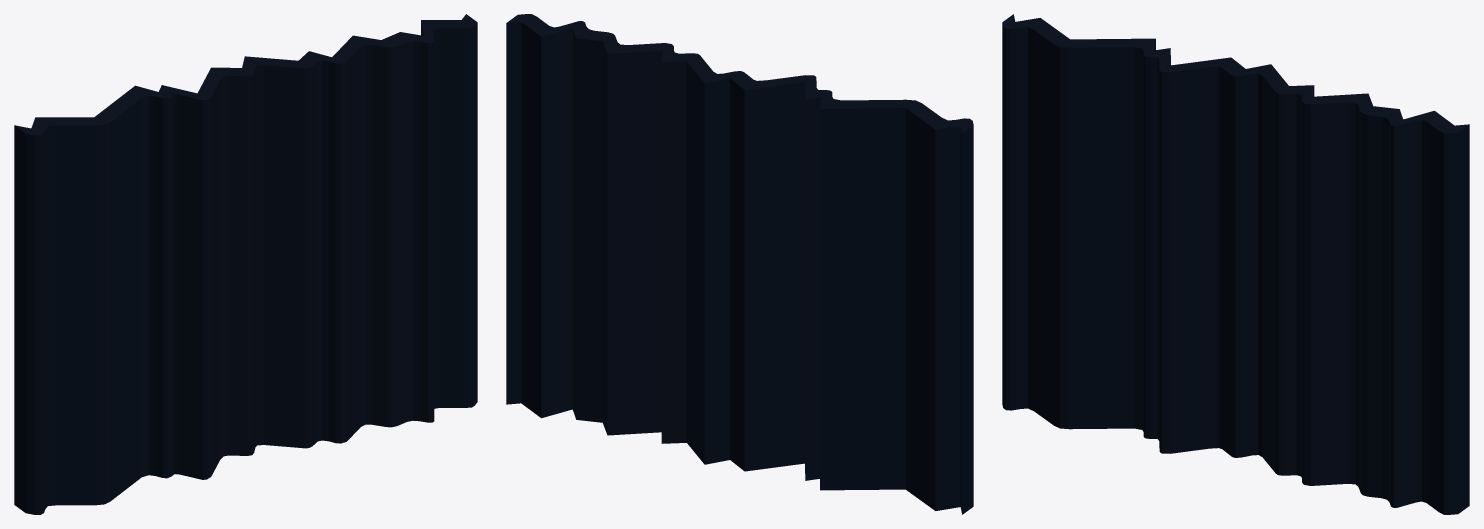
The model's file is curtains.glb.
The picture shows the model from 3 angles, left to right: view 1: azimuth 30°, elevation 25°; view 2: azimuth 150°, elevation 25°; view 3: azimuth 330°, elevation 25°; orthographic projection.
Visible parts, largest first — view 1: Cube; view 2: Cube; view 3: Cube.
Boxes of the visible parts, x1,y1,x2,y2 form: Cube: [14, 14, 477, 514]; Cube: [506, 14, 973, 514]; Cube: [1002, 14, 1469, 514].
Size of the model in its own units: 3.97 by 3.18 by 0.5361.
